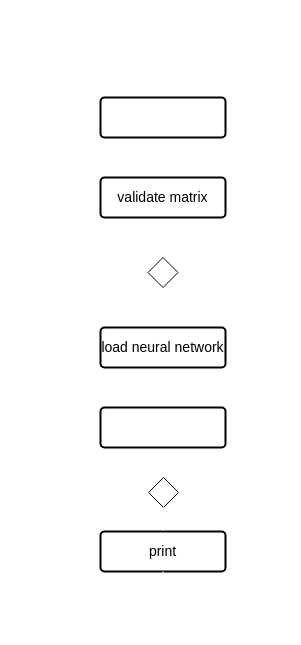
Image size: 301x645. Some labels were removed from this diagram. The shapes that lost their labels are listed below. From the top down, each one's centre as x and y in pixels, then its label:
the point at 162,117: get matrix
the point at 162,427: classify
